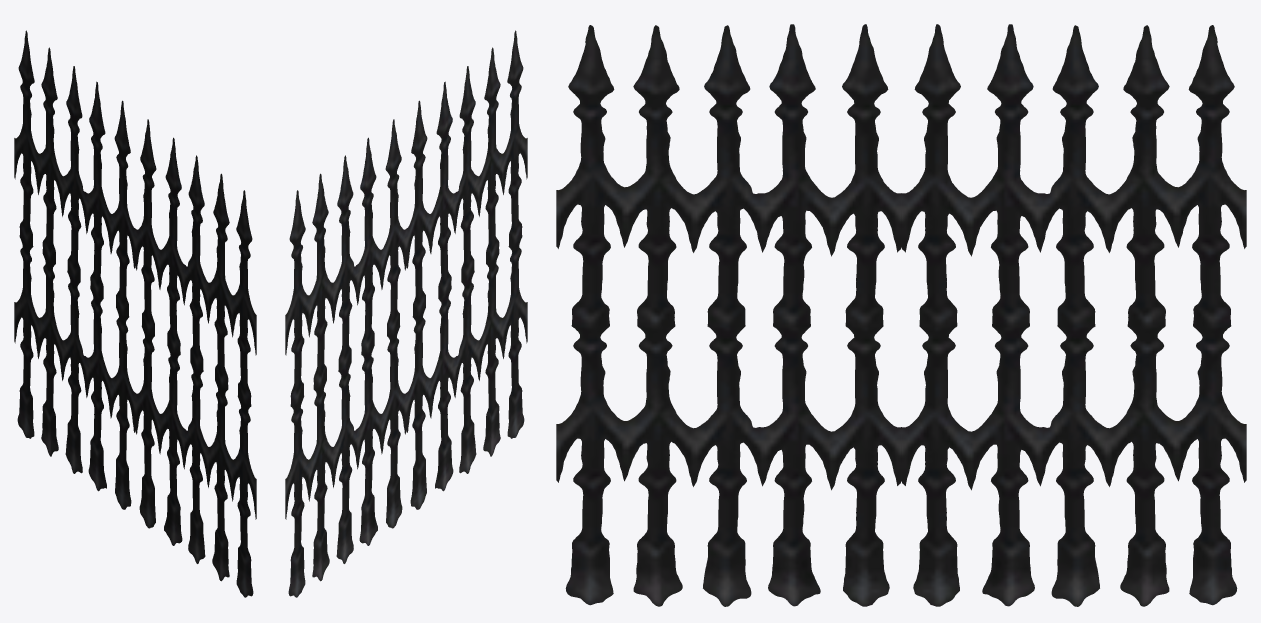
File: blsd_bsweilan_01.FBX
The picture shows the model from 3 angles, left to right: view 1: azimuth 30°, elevation 25°; view 2: azimuth 150°, elevation 25°; view 3: azimuth 270°, elevation 25°; orthographic projection. The views are drawn at different scales.
Parts seen in each view (by area): view 1: blsd_bsweilan_01; view 2: blsd_bsweilan_01; view 3: blsd_bsweilan_01.
Boxes of the visible parts, x1,y1,x2,y2 form: blsd_bsweilan_01: (14,30,256,597); blsd_bsweilan_01: (285,30,527,597); blsd_bsweilan_01: (556,24,1246,606).
Size of the model in its own units: 1.43e-05 by 178 by 188.
